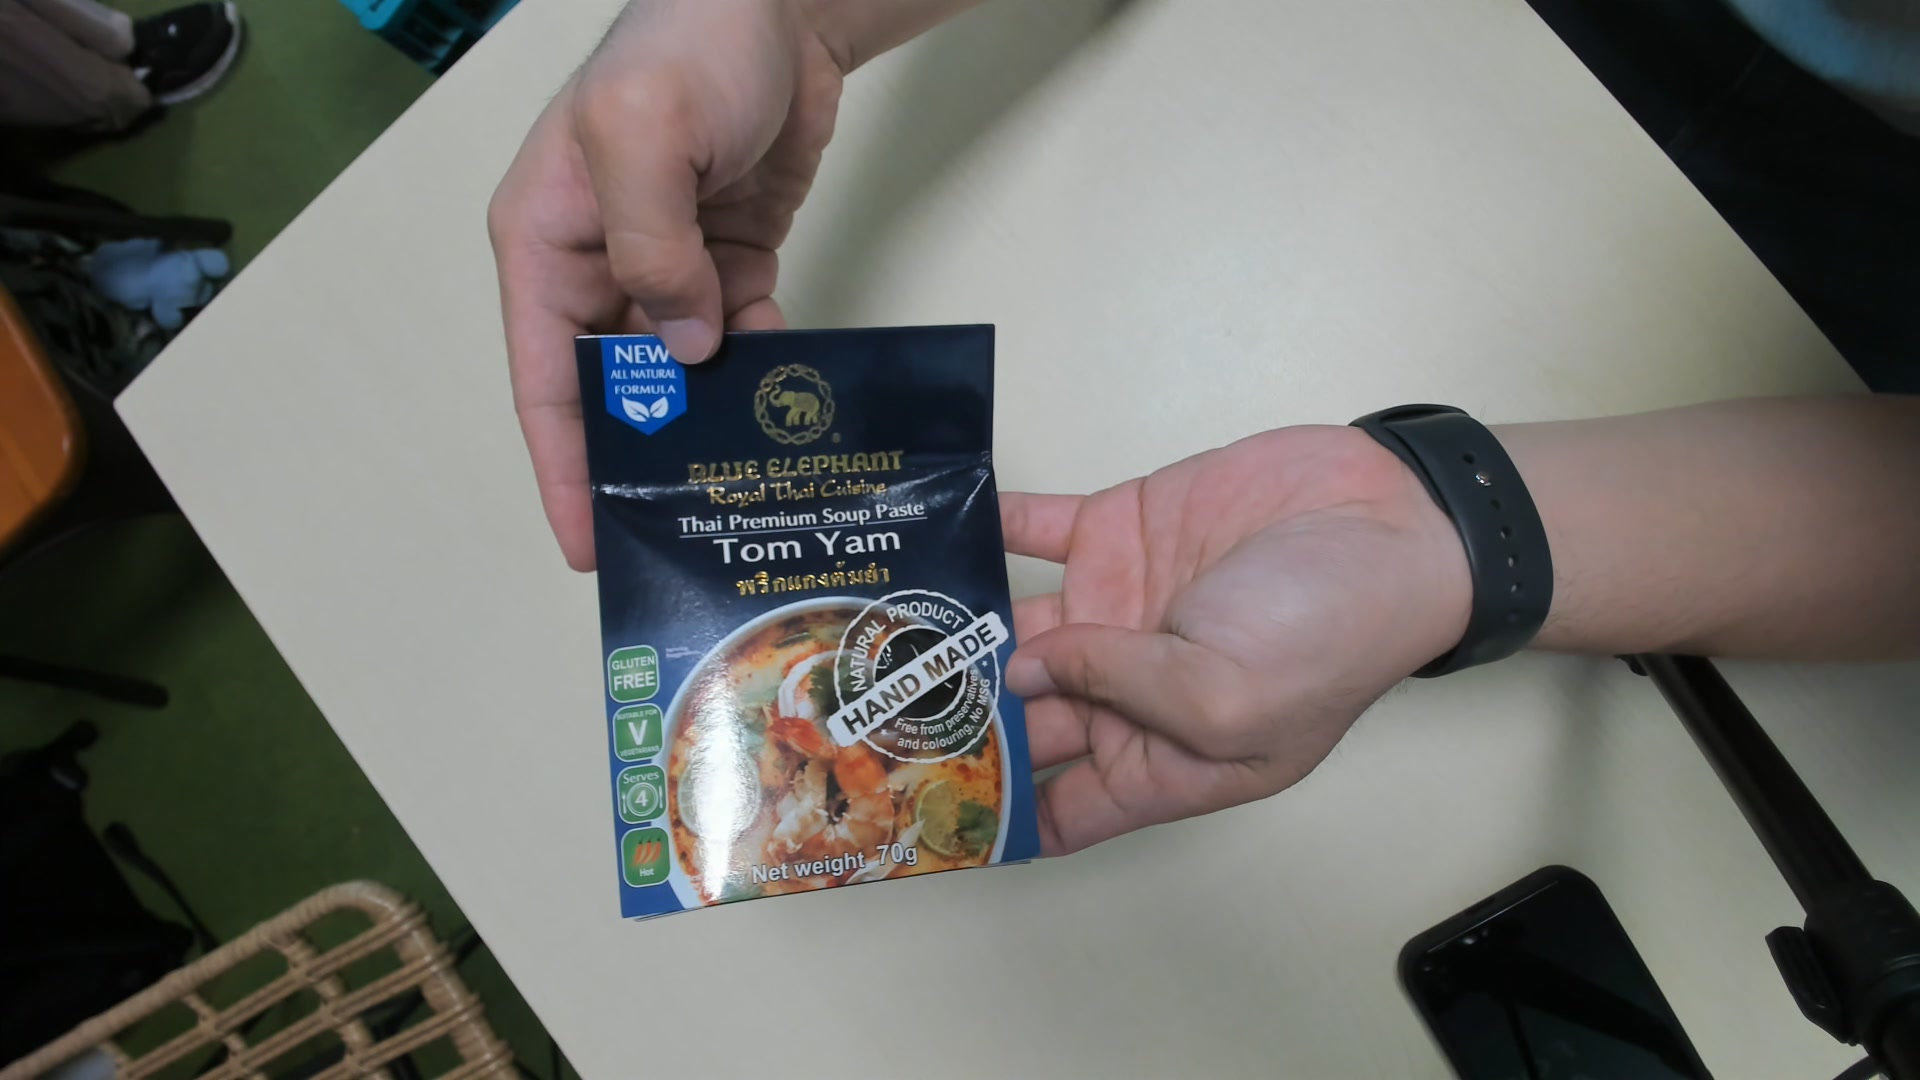OtherSauceDressing_0-99g_Halal_NonHealthy: (578, 324, 1040, 920)
